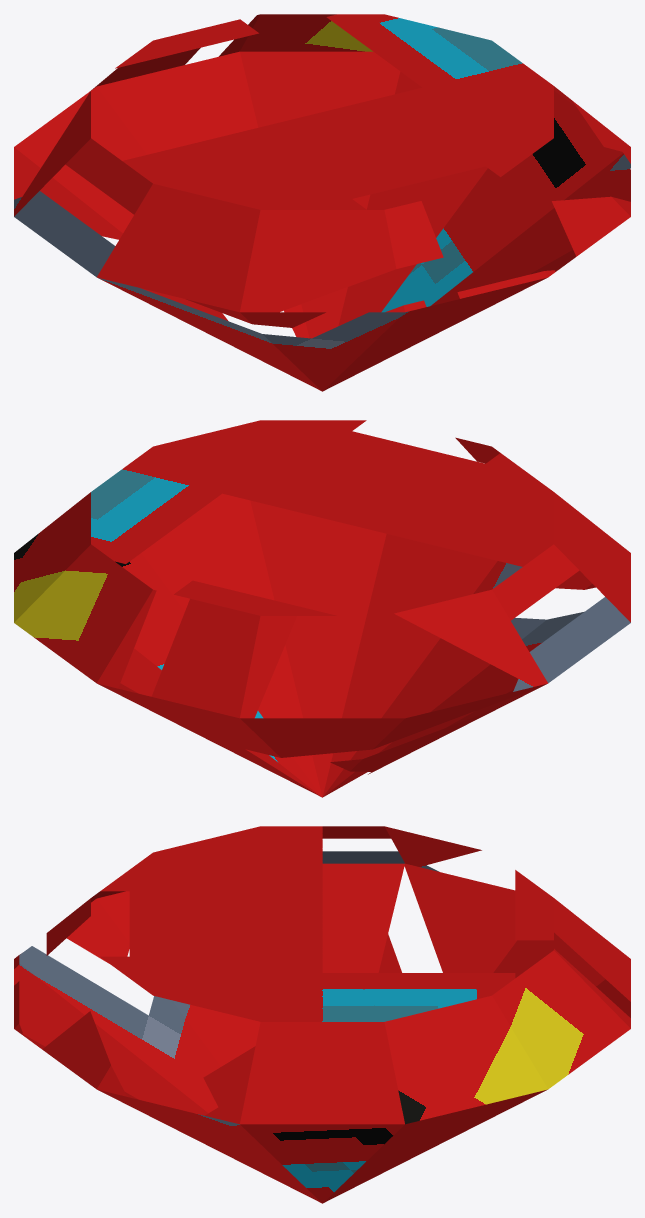
The model's file is diamond.obj.
3 views of the same model, one above another, from view 1: azimuth 30°, elevation 25°; view 2: azimuth 150°, elevation 25°; view 3: azimuth 270°, elevation 25° (orthographic).
Visible parts, largest first — view 1: cone; view 2: cone; view 3: cone.
Part boxes in pixels (x1=…): cone: x1=14, y1=14, x2=630, y2=391; cone: x1=14, y1=420, x2=630, y2=797; cone: x1=14, y1=826, x2=630, y2=1203.
Size of the model in its own units: 1 by 0.5 by 1.
